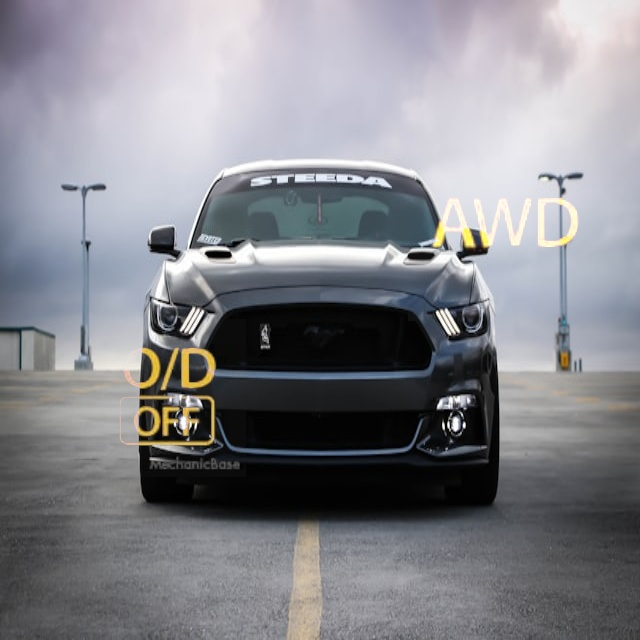symbol: (408, 128, 601, 321), (88, 319, 246, 477)
